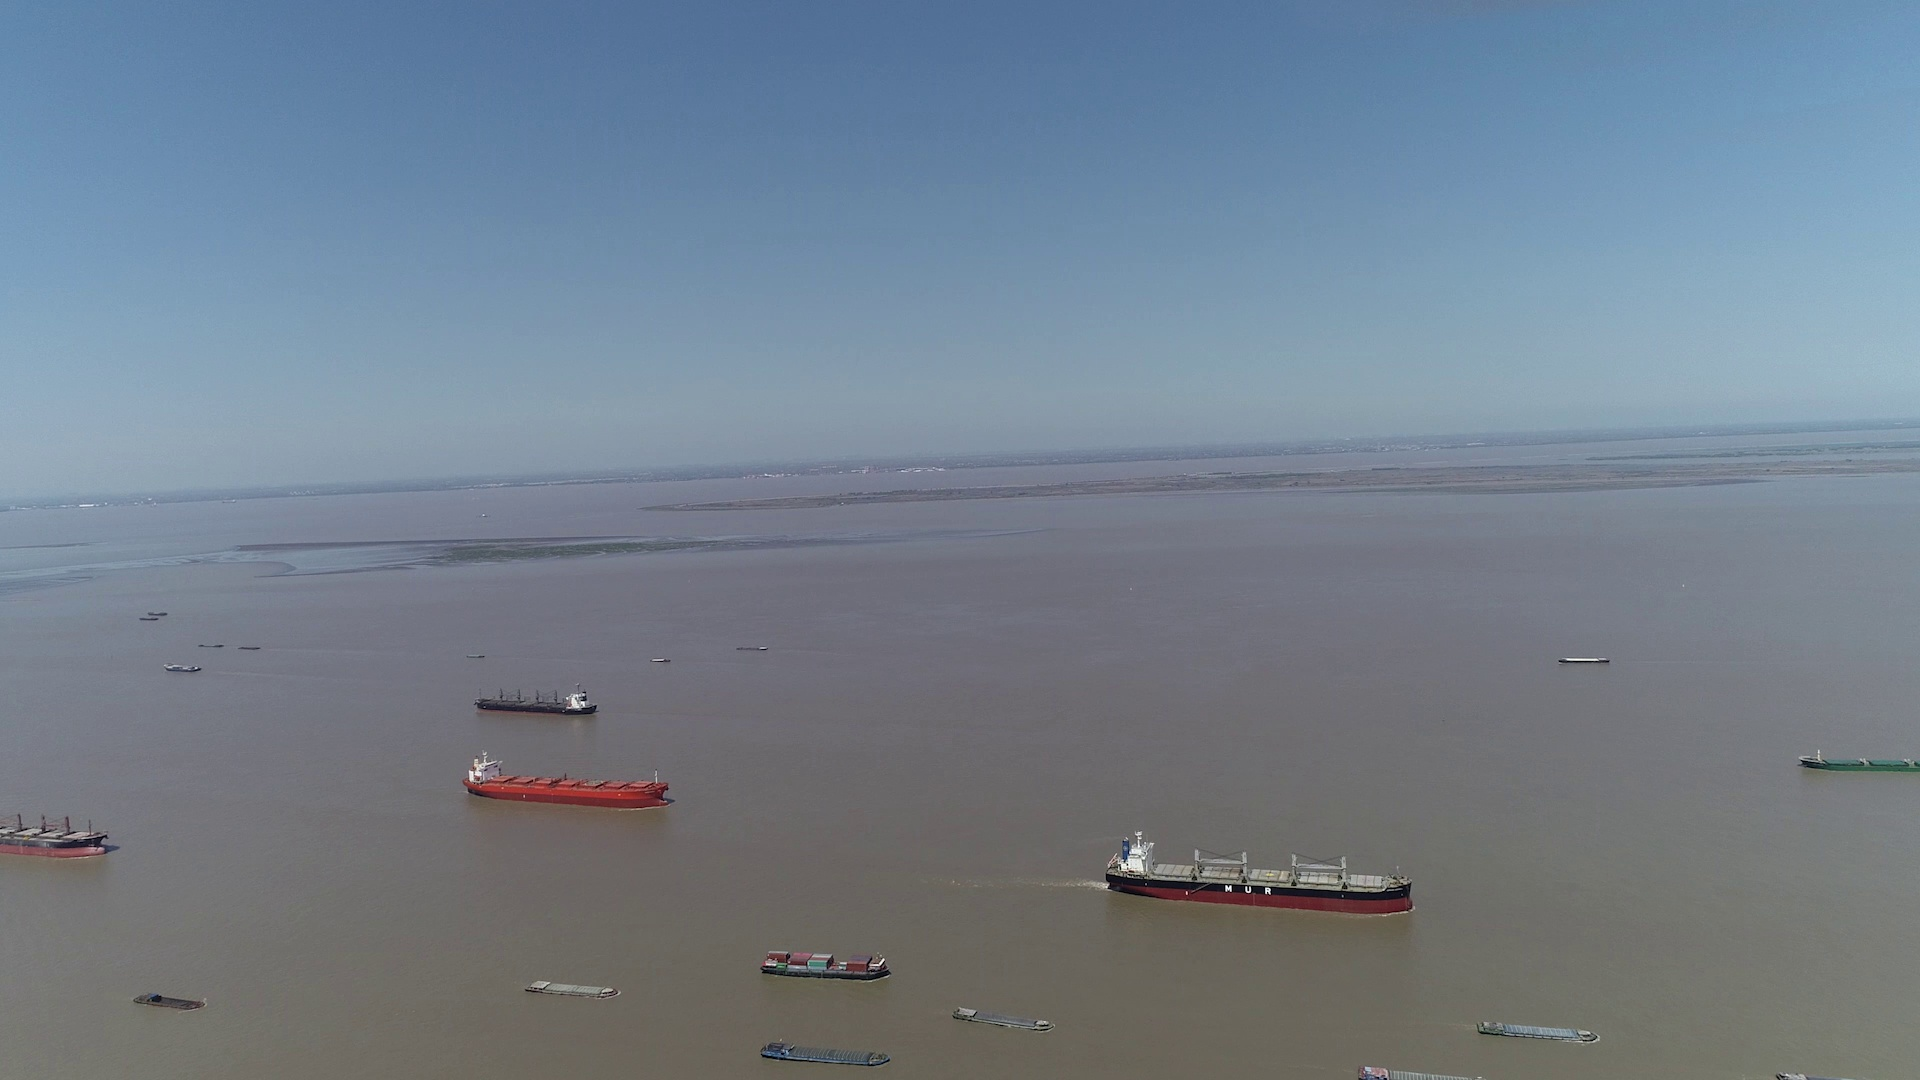ship: (1106, 829, 1416, 914), (463, 746, 669, 807), (3, 800, 111, 858), (760, 948, 891, 981), (473, 684, 597, 715), (758, 1040, 893, 1067), (1476, 1021, 1597, 1044), (1797, 752, 1920, 774), (952, 1006, 1054, 1033), (525, 978, 621, 1000), (133, 992, 207, 1011), (1557, 654, 1609, 665), (165, 663, 200, 673)
